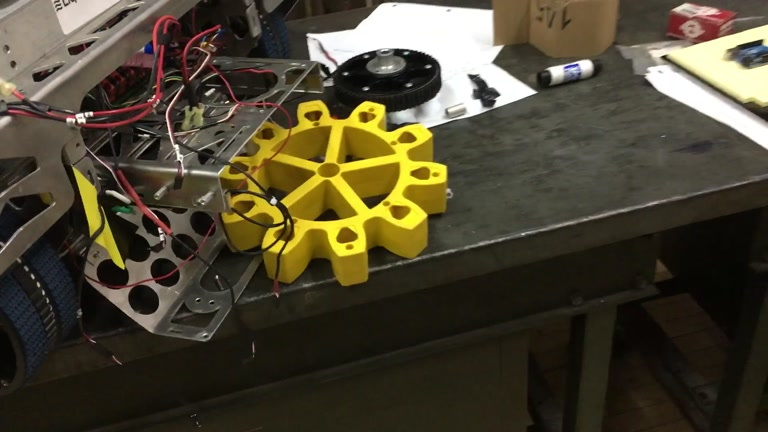gear: (219, 99, 448, 284)
